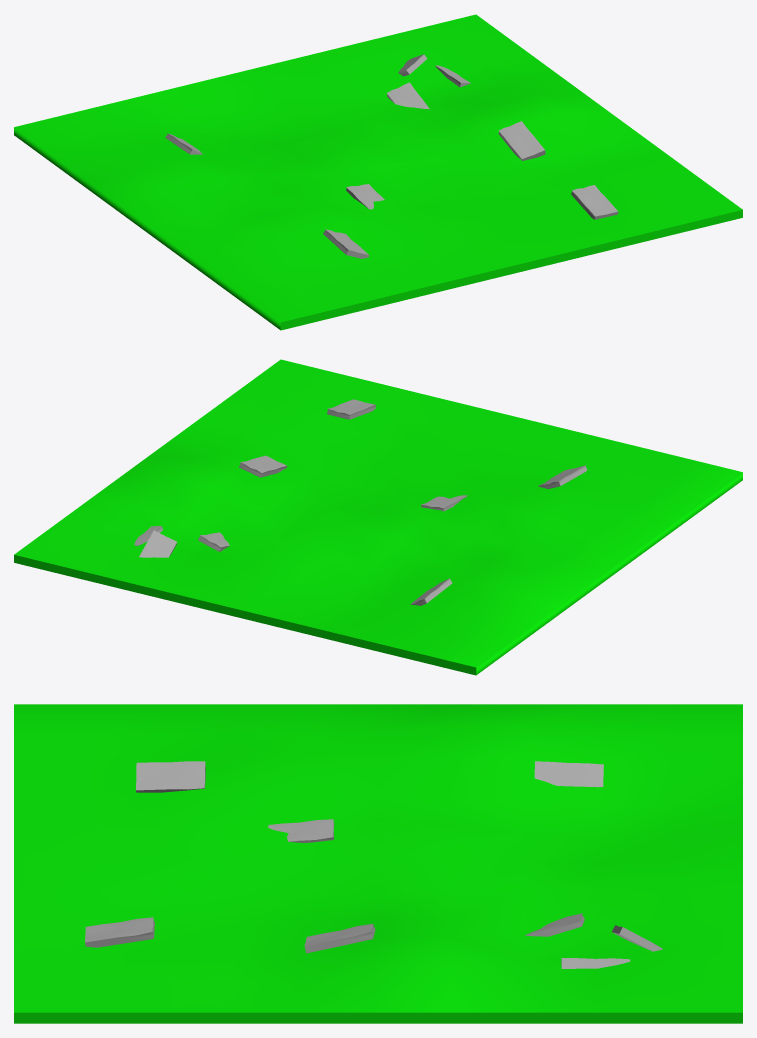
File: ground-tile.fbx
The picture shows the model from 3 angles, top to bottom: view 1: azimuth 30°, elevation 25°; view 2: azimuth 150°, elevation 25°; view 3: azimuth 270°, elevation 25°; orthographic projection. The views are drawn at different scales.
Parts seen in each view (by area): view 1: ground; view 2: ground; view 3: ground.
Boxes of the visible parts, x1,y1,x2,y2 form: ground: (14, 14, 742, 330); ground: (14, 359, 742, 675); ground: (14, 704, 742, 1023).
Size of the model in its own units: 1300 by 96.37 by 1300.
